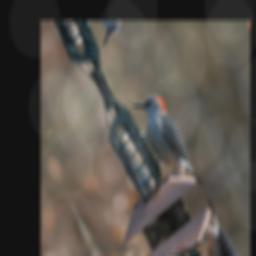Woodpecker: (124, 82, 205, 211)
